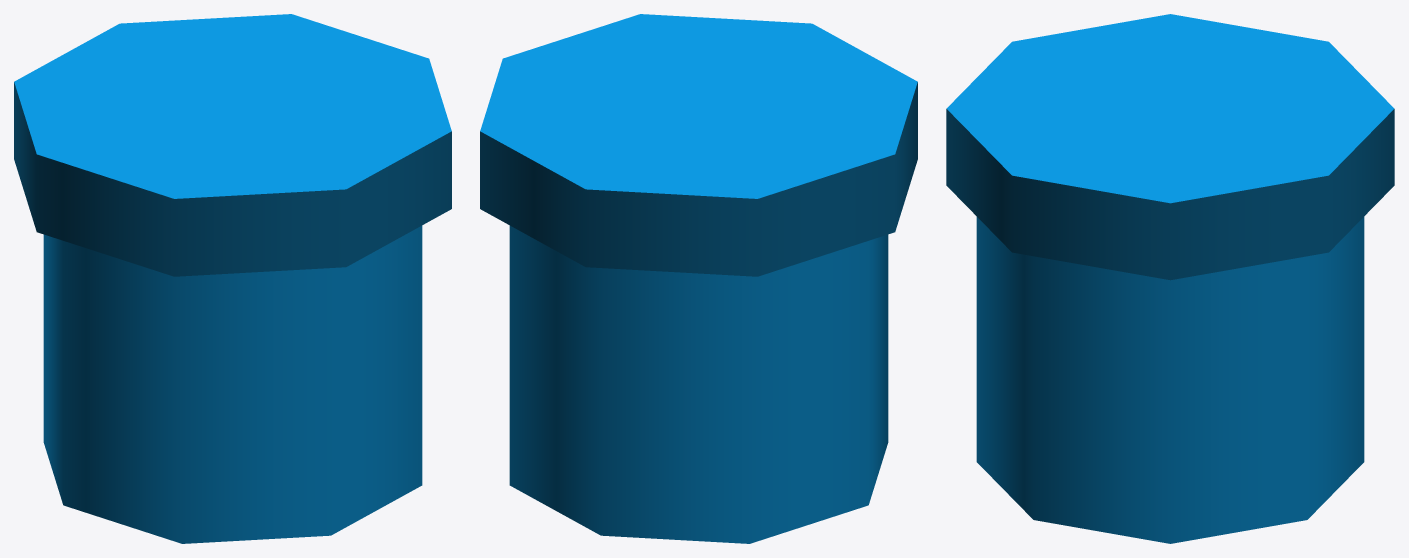
File: Container3.fbx
3 renders of one model, left to right at view 1: azimuth 30°, elevation 25°; view 2: azimuth 150°, elevation 25°; view 3: azimuth 270°, elevation 25°, orthographic.
Parts seen in each view (by area): view 1: Container3; view 2: Container3; view 3: Container3.
Boxes of the visible parts, x1,y1,x2,y2 form: Container3: [14, 14, 451, 543]; Container3: [480, 14, 917, 543]; Container3: [946, 14, 1394, 543].
Bounding box in the file's own units: 19.36 × 16.85 × 19.36.
